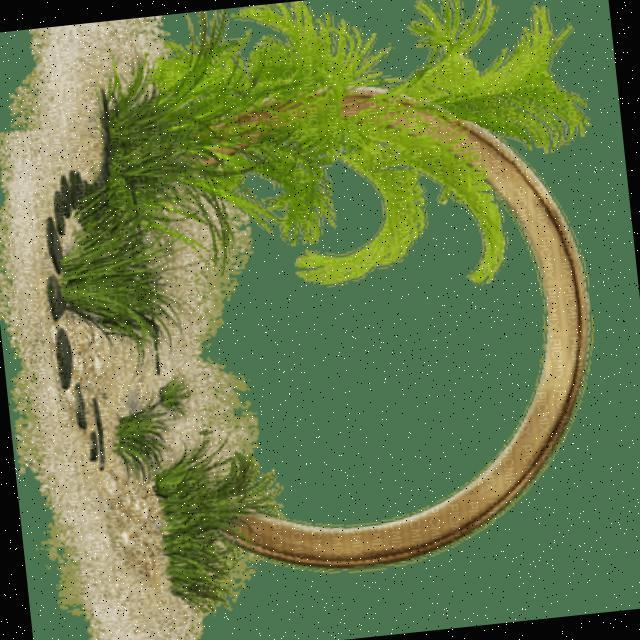Circle: (172, 84, 598, 568)
